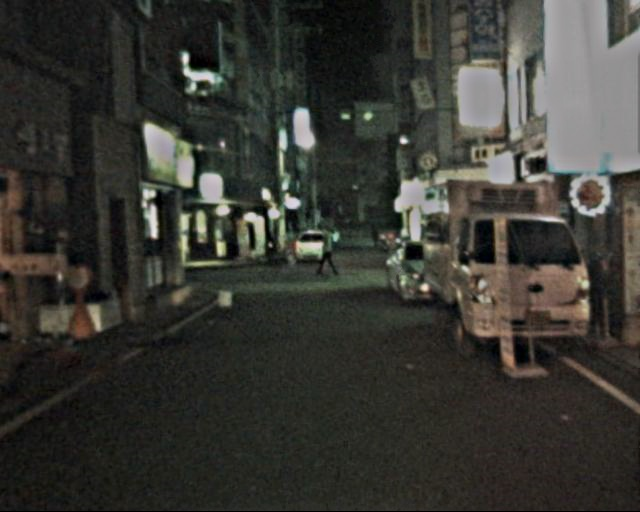person: (312, 222, 341, 282)
